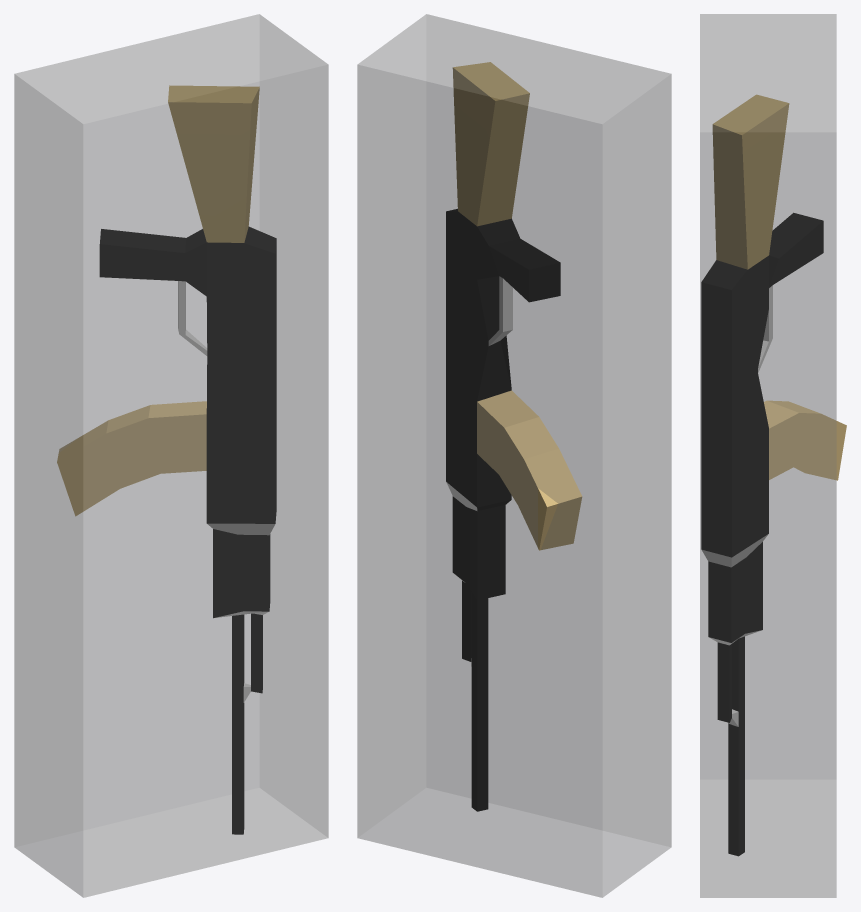
The model's file is weapon_kalash.fbx.
3 renders of one model, left to right at view 1: azimuth 30°, elevation 25°; view 2: azimuth 150°, elevation 25°; view 3: azimuth 270°, elevation 25°, orthographic.
Visible parts, largest first — view 1: simple, weapon1kalash; view 2: simple, weapon1kalash; view 3: simple, weapon1kalash.
Boxes of the visible parts, <box> form: simple: <box>14,14,328,897</box>; weapon1kalash: <box>57,85,276,834</box>; simple: <box>357,14,671,897</box>; weapon1kalash: <box>446,62,582,811</box>; simple: <box>700,14,836,897</box>; weapon1kalash: <box>701,94,846,856</box>.
Size of the model in its own units: 0.4041 by 1.22 by 0.212.
